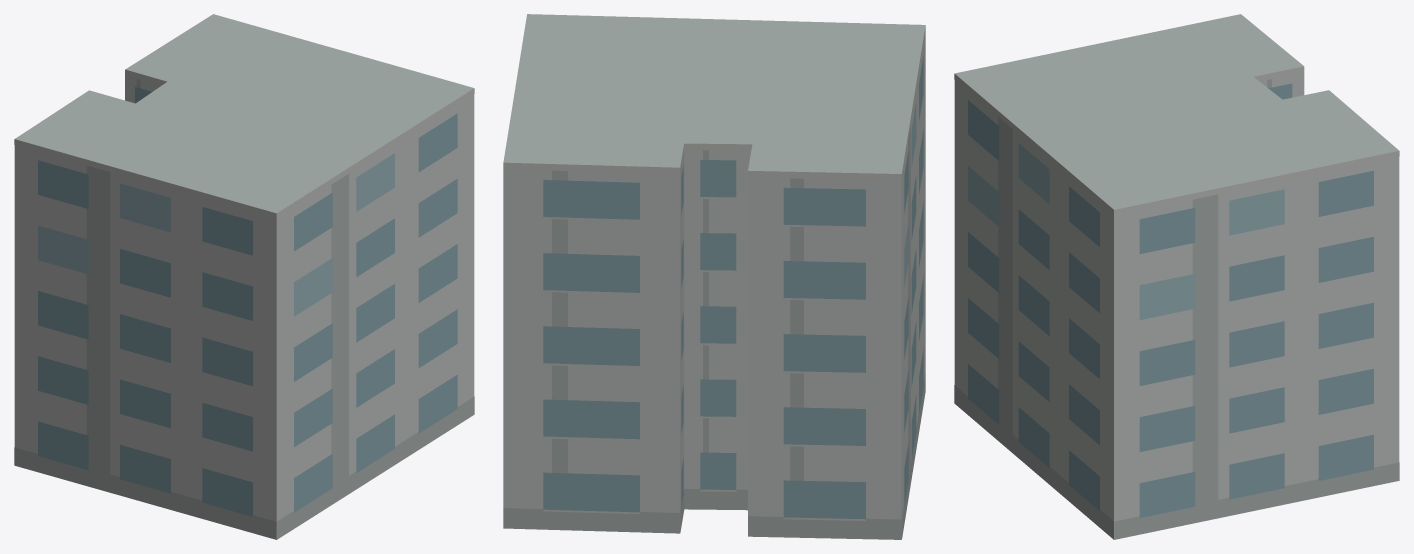
Rendered from survey-upis-32740179.glb.
The picture shows the model from 3 angles, left to right: view 1: azimuth 30°, elevation 25°; view 2: azimuth 150°, elevation 25°; view 3: azimuth 270°, elevation 25°; orthographic projection. The views are drawn at different scales.
Visible parts, largest first — view 1: survey-upis-32740179.tmp; view 2: survey-upis-32740179.tmp; view 3: survey-upis-32740179.tmp.
Part boxes in pixels (<box>): survey-upis-32740179.tmp: <box>14,14,474,539</box>; survey-upis-32740179.tmp: <box>503,14,925,539</box>; survey-upis-32740179.tmp: <box>954,14,1399,539</box>.
Bounding box in the file's own units: 17 × 13.35 × 16.32.
